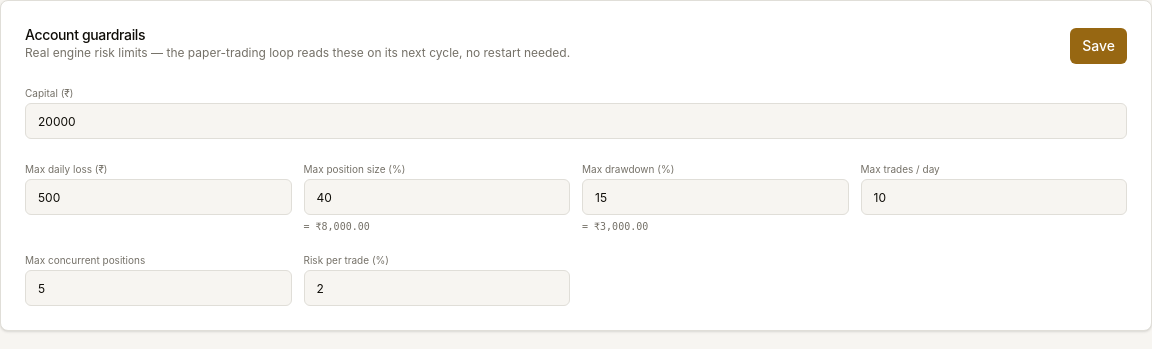
AccountGuardrailsCard › updates the rupee equivalent when capital changes
The width and height of the screenshot is (1152, 349).
Replace the text in the number field labelled "Capital (₹)" with "30000" at (576, 121), box [25, 103, 1127, 139]
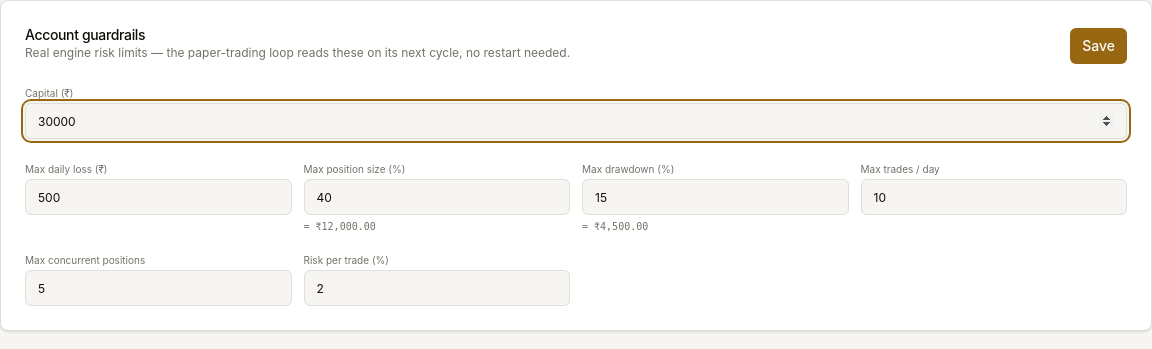
Now the text "= ₹12,000.00" is shown, box [304, 221, 376, 232]
